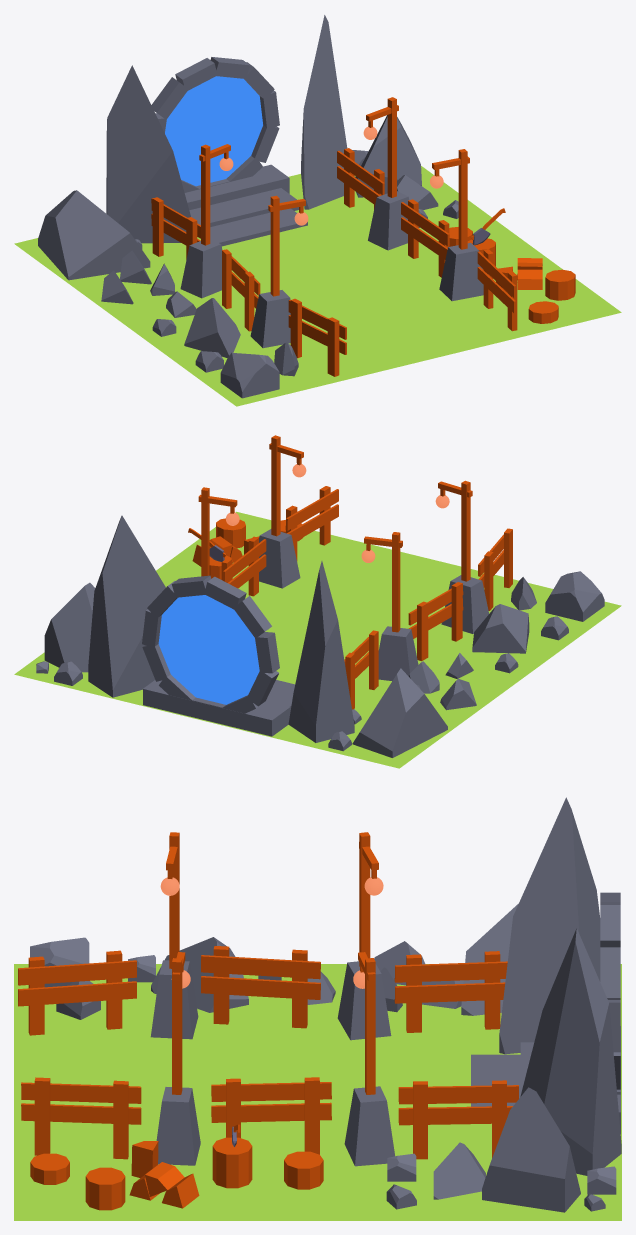
File: portal.glb
3 renders of one model, top to bottom at view 1: azimuth 30°, elevation 25°; view 2: azimuth 150°, elevation 25°; view 3: azimuth 270°, elevation 25°, orthographic. The views are drawn at different scales.
Visible parts, largest first — view 1: Plane, Cube.038, portalLight, Cube.016, Cube.039, Cube.001, Cube.023, Cube.015, Cube.014, Cube.007, Cube.047, Cube.003 (+26 smaller); view 2: Plane, Cube.039, portalLight, Cube.038, Cube.016, Cube.035, Cube.014, Cube.023, Cube, Cube.015, Cube.005, Cube.047 (+24 smaller); view 3: Plane, Cube.039, Cube.038, Cube.014, Cube.005, Cube.001, Cube, Cube.002, Cube.003, Cube.004, Cube.009, Cube.047 (+24 smaller).
Boxes of the visible parts, x1,y1,x2,y2 form: Plane: (14, 166, 621, 406); Cube.038: (106, 65, 190, 243); portalLight: (165, 76, 262, 186); Cube.016: (38, 190, 150, 280); Cube.039: (301, 15, 347, 209); Cube.001: (288, 298, 346, 376); Cube.023: (184, 298, 240, 357); Cube.015: (220, 352, 279, 398); Cube.014: (355, 115, 421, 197); Cube.007: (180, 239, 222, 298); Cube.047: (439, 243, 483, 301); Cube.003: (401, 199, 449, 277); Plane: (14, 511, 621, 768); Cube.039: (88, 515, 165, 697); portalLight: (158, 595, 259, 704); Cube.038: (288, 561, 354, 742); Cube.016: (352, 668, 447, 757); Cube.035: (143, 680, 290, 736); Cube.014: (44, 582, 95, 672); Cube.023: (472, 604, 529, 653); Cube: (408, 582, 463, 661); Cube.015: (545, 571, 604, 621); Cube.005: (285, 486, 338, 561); Cube.047: (259, 529, 300, 588); Plane: (14, 964, 621, 1220); Cube.039: (520, 928, 621, 1175); Cube.038: (499, 797, 600, 1054); Cube.014: (482, 1087, 580, 1212); Cube.005: (21, 1077, 141, 1159); Cube.001: (18, 950, 136, 1035); Cube: (201, 946, 320, 1028); Cube.002: (394, 951, 507, 1032); Cube.003: (211, 1077, 331, 1154); Cube.004: (398, 1080, 518, 1159); Cube.009: (344, 1086, 394, 1166); Cube.047: (156, 1087, 200, 1165).
Size of the model in its own units: 4 by 1.68 by 4.
